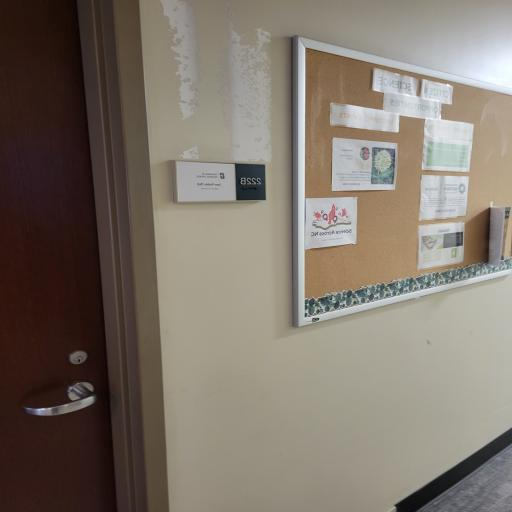door: (0, 0, 132, 512)
poster board: (271, 28, 512, 344)
room 222b sign: (167, 160, 267, 205)
